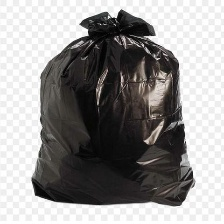plastic_bag: (28, 5, 201, 214)
